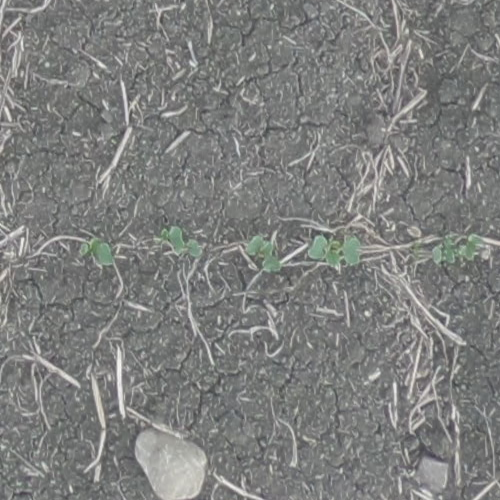plant: (308, 235, 360, 267), (431, 234, 484, 263), (161, 226, 203, 259), (246, 235, 282, 273), (79, 239, 114, 266)
